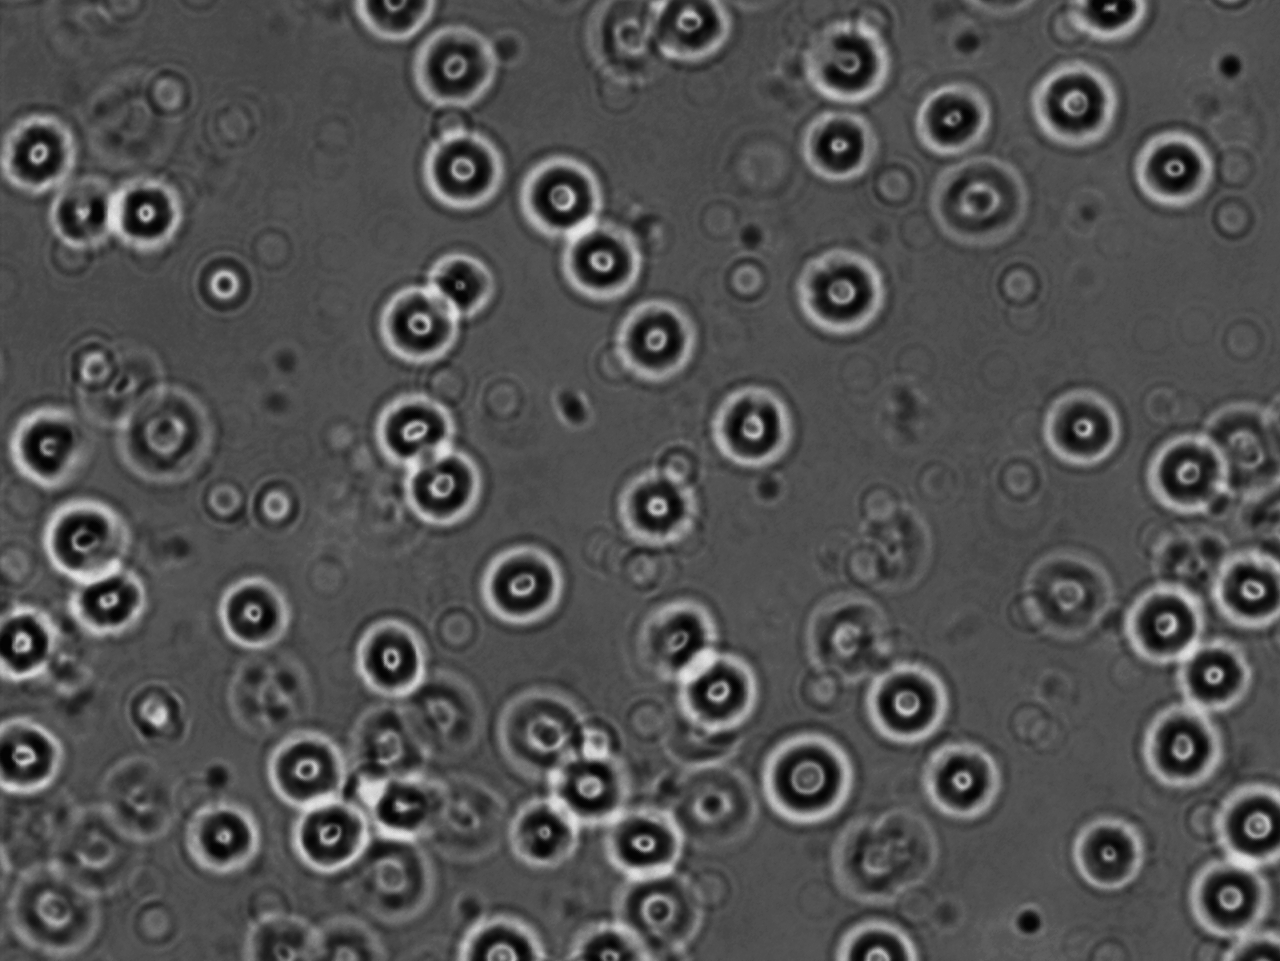depth:-8: (1118, 122, 1241, 231), (753, 712, 860, 832), (918, 153, 1041, 256), (392, 21, 517, 122), (30, 475, 142, 588), (694, 371, 802, 487), (1132, 691, 1241, 805), (788, 237, 899, 347), (601, 289, 710, 397), (411, 116, 515, 229), (1161, 845, 1272, 948), (374, 275, 485, 377), (1030, 371, 1135, 478), (472, 531, 576, 639), (1022, 54, 1130, 155), (1169, 628, 1273, 733), (858, 643, 962, 746), (170, 792, 278, 891), (895, 66, 1006, 162), (1137, 423, 1237, 529), (910, 730, 1007, 837), (1108, 569, 1205, 677), (586, 795, 692, 893), (2, 393, 100, 497), (793, 13, 903, 105), (629, 581, 732, 679), (343, 612, 441, 712), (799, 96, 897, 195), (260, 720, 357, 817), (537, 743, 636, 838), (408, 233, 509, 325), (105, 167, 196, 269), (611, 456, 700, 560), (606, 868, 716, 952), (57, 556, 151, 653), (511, 153, 605, 251), (1059, 800, 1158, 892), (39, 163, 131, 260), (557, 221, 656, 311), (293, 792, 390, 883), (1203, 527, 1280, 641), (673, 645, 769, 735), (497, 788, 586, 883), (391, 443, 485, 533), (370, 382, 465, 470), (205, 571, 303, 657), (1205, 773, 1280, 870), (459, 890, 560, 961), (817, 899, 930, 961)
